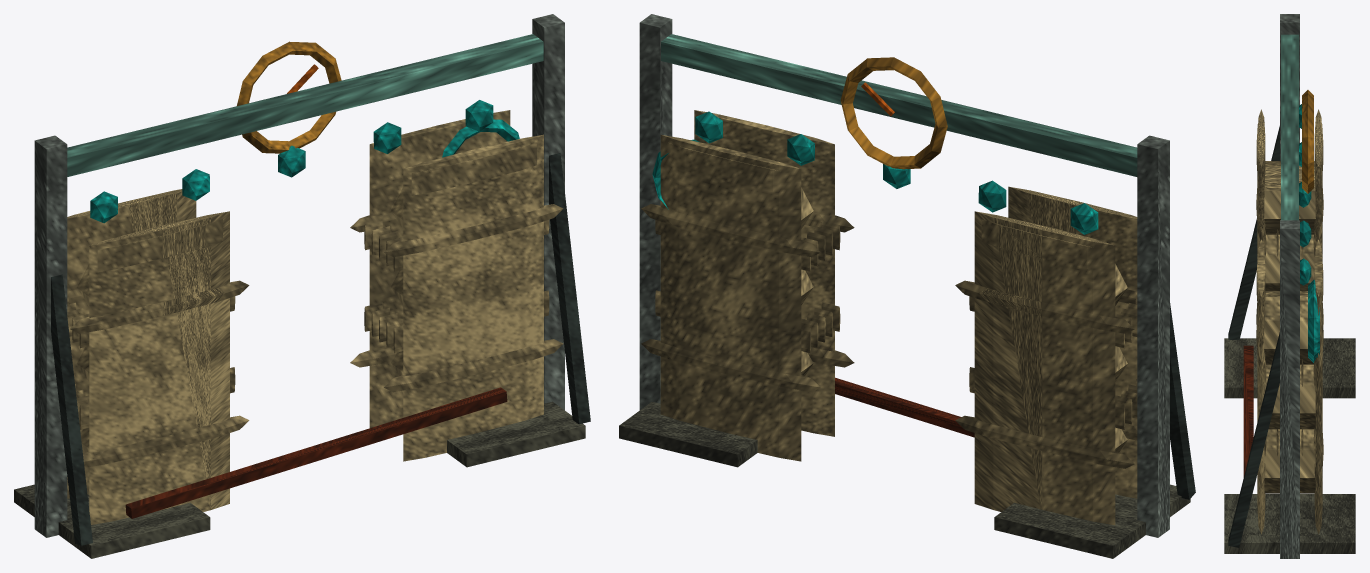
File: east-herd-glow-gate.glb
3 views of the same model, side by side, from view 1: azimuth 30°, elevation 25°; view 2: azimuth 150°, elevation 25°; view 3: azimuth 270°, elevation 25° (orthographic). The views are drawn at different scales.
Parts seen in each view (by area): view 1: east-herd-glow-gate; view 2: east-herd-glow-gate; view 3: east-herd-glow-gate.
Part boxes in pixels (left/top/right/bottom): east-herd-glow-gate: left=14, top=14, right=590, bottom=558; east-herd-glow-gate: left=619, top=14, right=1195, bottom=558; east-herd-glow-gate: left=1224, top=14, right=1355, bottom=558.
Bounding box in the file's own units: 6.77 × 5.25 × 1.75.
1 material, 1 textured.
